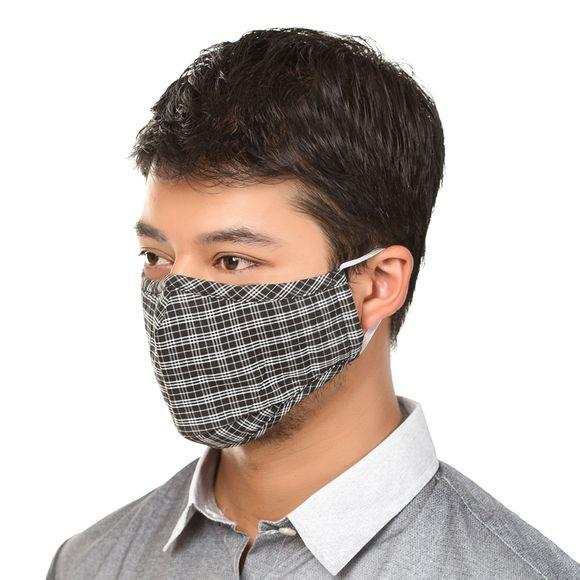OK: (128, 217, 369, 451)
